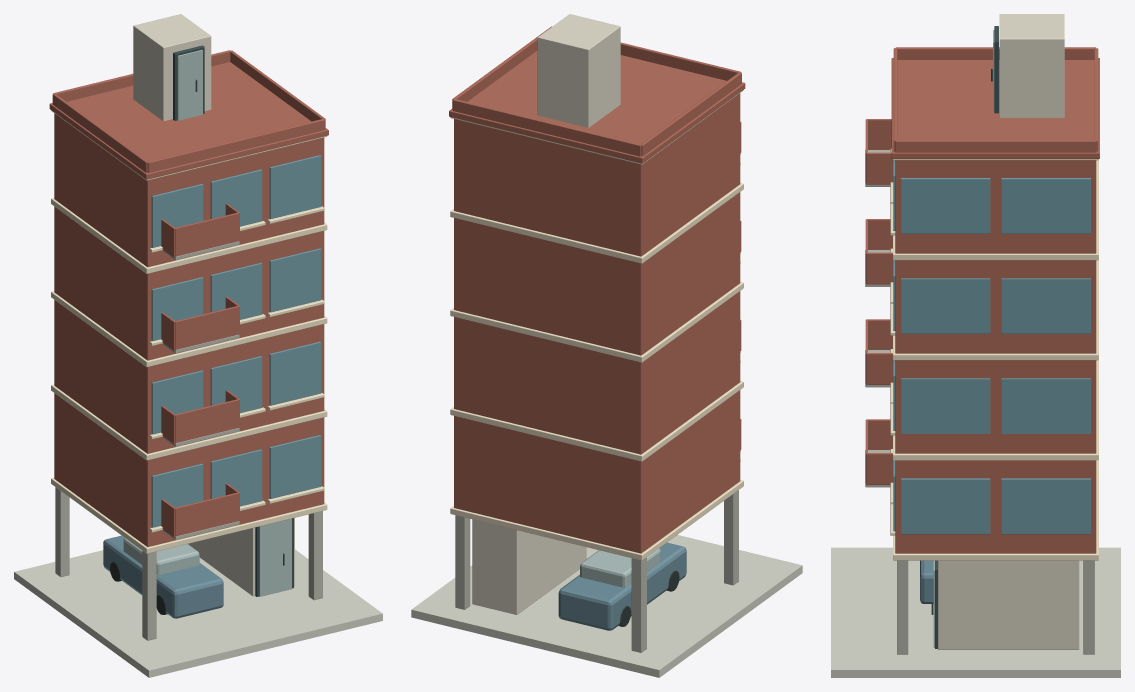
The model's file is medium-2x2-multiplex-01.glb.
The picture shows the model from 3 angles, left to right: view 1: azimuth 30°, elevation 25°; view 2: azimuth 150°, elevation 25°; view 3: azimuth 270°, elevation 25°; orthographic projection. The views are drawn at different scales.
Parts seen in each view (by area): view 1: LotPlinth, Storey_05, Storey_04, Storey_03, Storey_02, RoofCap, RoofAccess, ParkedCar, FrontWindow_02.002, FrontWindow_03.002, FrontWindow_04.002, FrontWindow_05.002 (+28 smaller); view 2: Storey_03, Storey_04, Storey_02, Storey_05, LotPlinth, RoofCap, RoofAccess, EntranceStairCore, ParkedCar, RoofParapet.001, SlabEdge, SlabEdge.002 (+9 smaller); view 3: LotPlinth, RoofCap, EntranceStairCore, Storey_02, Storey_03, Storey_04, Storey_05, RoofAccess, SideWindow_02, SideWindow_02.001, SideWindow_03, SideWindow_03.001 (+23 smaller).
Boxes of the visible parts, left/top/right/bottom form: LotPlinth: left=14, top=549, right=382, bottom=677; Storey_05: left=54, top=113, right=324, bottom=267; Storey_04: left=54, top=206, right=324, bottom=360; Storey_03: left=54, top=300, right=324, bottom=453; Storey_02: left=54, top=393, right=324, bottom=546; RoofCap: left=49, top=62, right=328, bottom=179; RoofAccess: left=133, top=14, right=211, bottom=121; ParkedCar: left=103, top=535, right=223, bottom=618; FrontWindow_02.002: left=269, top=435, right=321, bottom=498; FrontWindow_03.002: left=269, top=341, right=321, bottom=405; FrontWindow_04.002: left=269, top=248, right=321, bottom=312; FrontWindow_05.002: left=269, top=155, right=321, bottom=219; Storey_03: left=454, top=291, right=740, bottom=454; Storey_04: left=454, top=192, right=740, bottom=355; Storey_02: left=454, top=390, right=740, bottom=553; Storey_05: left=454, top=93, right=740, bottom=256; LotPlinth: left=411, top=535, right=802, bottom=677; RoofCap: left=449, top=50, right=745, bottom=163; RoofAccess: left=537, top=14, right=620, bottom=127; EntranceStairCore: left=472, top=519, right=586, bottom=614; ParkedCar: left=558, top=542, right=686, bottom=630; RoofParapet.001: left=453, top=99, right=641, bottom=156; SlabEdge: left=450, top=480, right=743, bottom=560; SlabEdge.002: left=450, top=282, right=743, bottom=362; LotPlinth: left=831, top=547, right=1120, bottom=677; RoofCap: left=891, top=58, right=1099, bottom=158; EntranceStairCore: left=938, top=560, right=1079, bottom=649; Storey_02: left=895, top=460, right=1096, bottom=553; Storey_03: left=895, top=360, right=1096, bottom=453; Storey_04: left=895, top=260, right=1096, bottom=353; Storey_05: left=895, top=160, right=1096, bottom=253; RoofAccess: left=999, top=14, right=1064, bottom=117; SideWindow_02: left=901, top=478, right=990, bottom=534; SideWindow_02.001: left=1001, top=478, right=1090, bottom=534; SideWindow_03: left=901, top=378, right=990, bottom=433; SideWindow_03.001: left=1001, top=378, right=1090, bottom=433.
Size of the model in its own units: 8 by 17.99 by 8.
